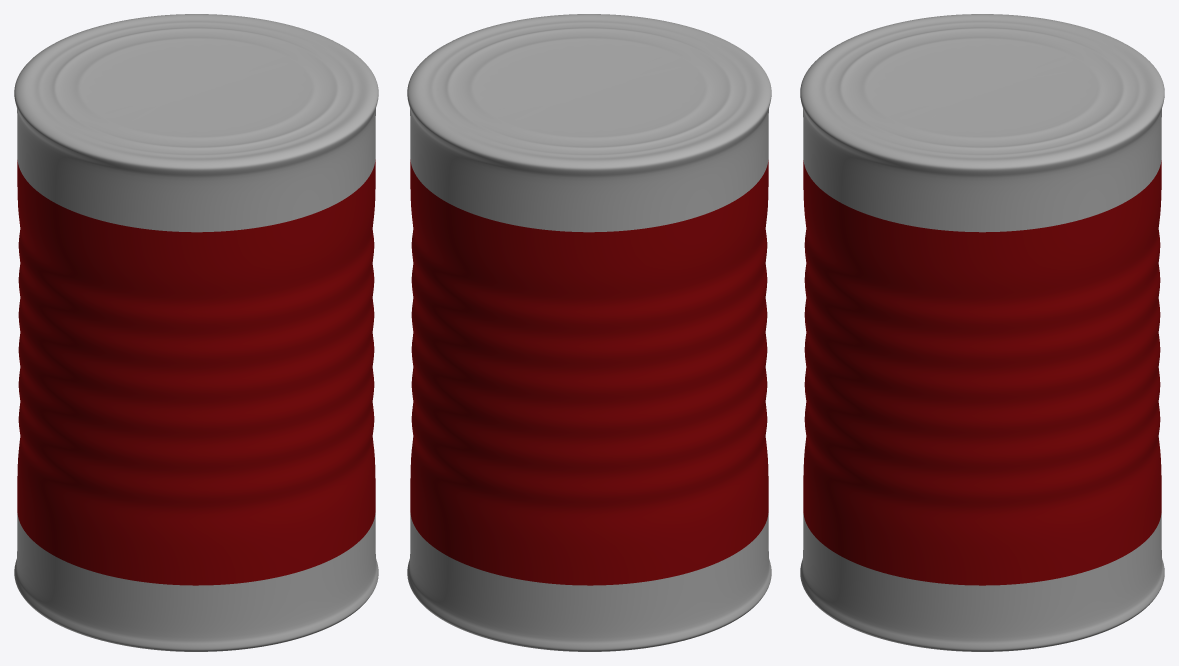
File: Can2.fbx
The picture shows the model from 3 angles, left to right: view 1: azimuth 30°, elevation 25°; view 2: azimuth 150°, elevation 25°; view 3: azimuth 270°, elevation 25°; orthographic projection.
Visible parts, largest first — view 1: Cylinder.001; view 2: Cylinder.001; view 3: Cylinder.001.
Part boxes in pixels (<box>): Cylinder.001: <box>14,14,378,651</box>; Cylinder.001: <box>407,14,771,651</box>; Cylinder.001: <box>800,14,1164,651</box>.
Bounding box in the file's own units: 202 × 300 × 202.
